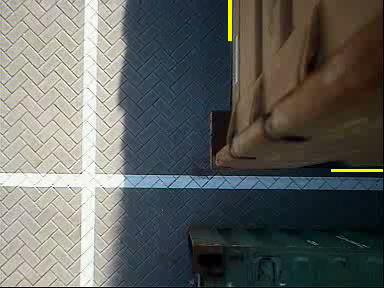groundmarker_2: (105, 116, 207, 189)
